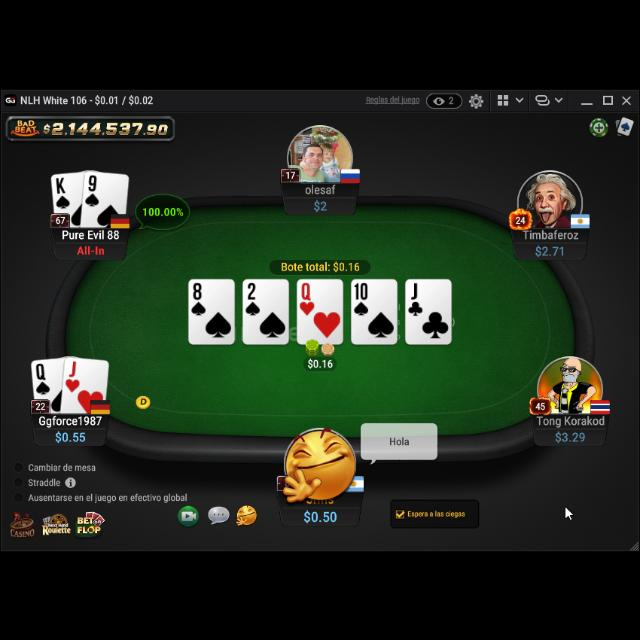2s: (244, 279, 262, 315)
8s: (190, 278, 206, 316)
9s: (84, 172, 100, 206)
Jc: (408, 280, 424, 316)
Jh: (64, 355, 82, 393)
Ks: (54, 175, 72, 209)
Qh: (299, 278, 315, 316)
Qs: (35, 361, 53, 395)
Ts: (352, 280, 370, 316)
all_in_symbol: (76, 242, 105, 254)
bet_text: (307, 354, 335, 368)
dealer: (134, 389, 152, 407)
pot_text: (281, 258, 361, 270)
stack_text: (303, 505, 339, 521), (55, 427, 87, 441), (554, 427, 586, 441), (534, 241, 564, 255), (312, 195, 330, 209)
